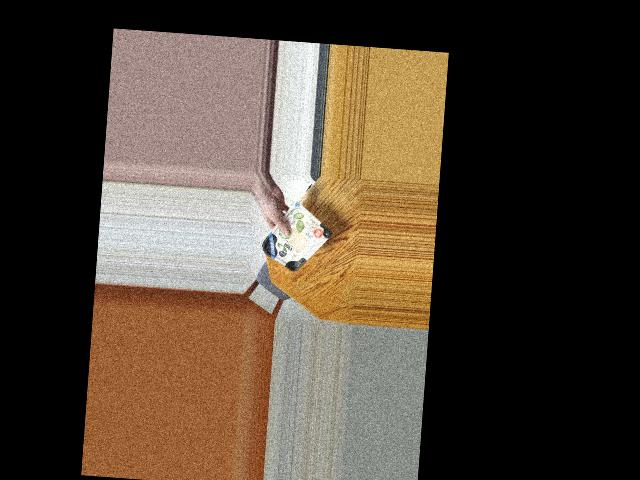cheese: (258, 210, 327, 273)
